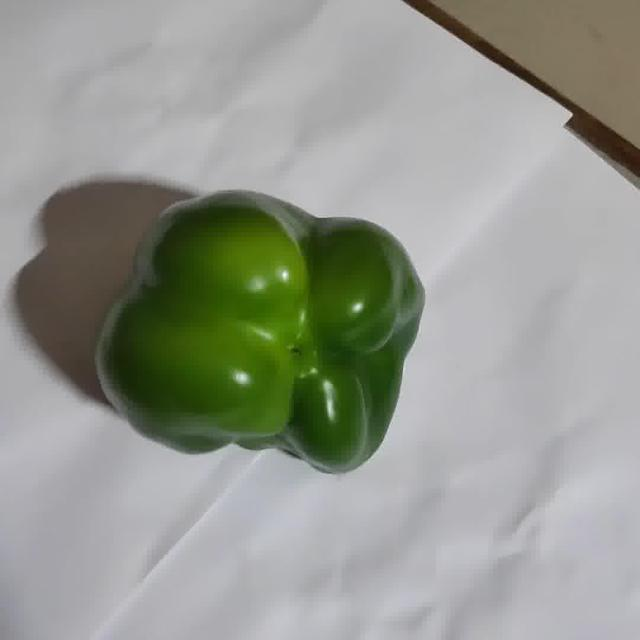Bell Pepper: (96, 192, 424, 472)
